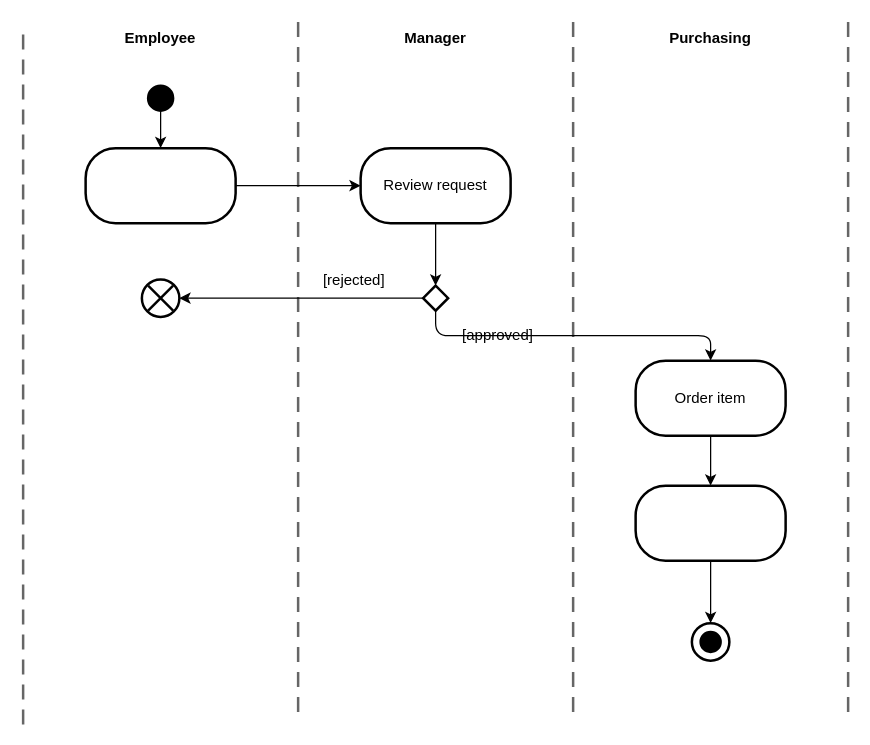
The diagram is 870 pixels wide and 745 high, and some of its shapes have lost their labels. Here are the shapes that lost their labels. From the top down, the centre of each, then its label:
[160,185]: Fill in request
[710,522]: Receive item
